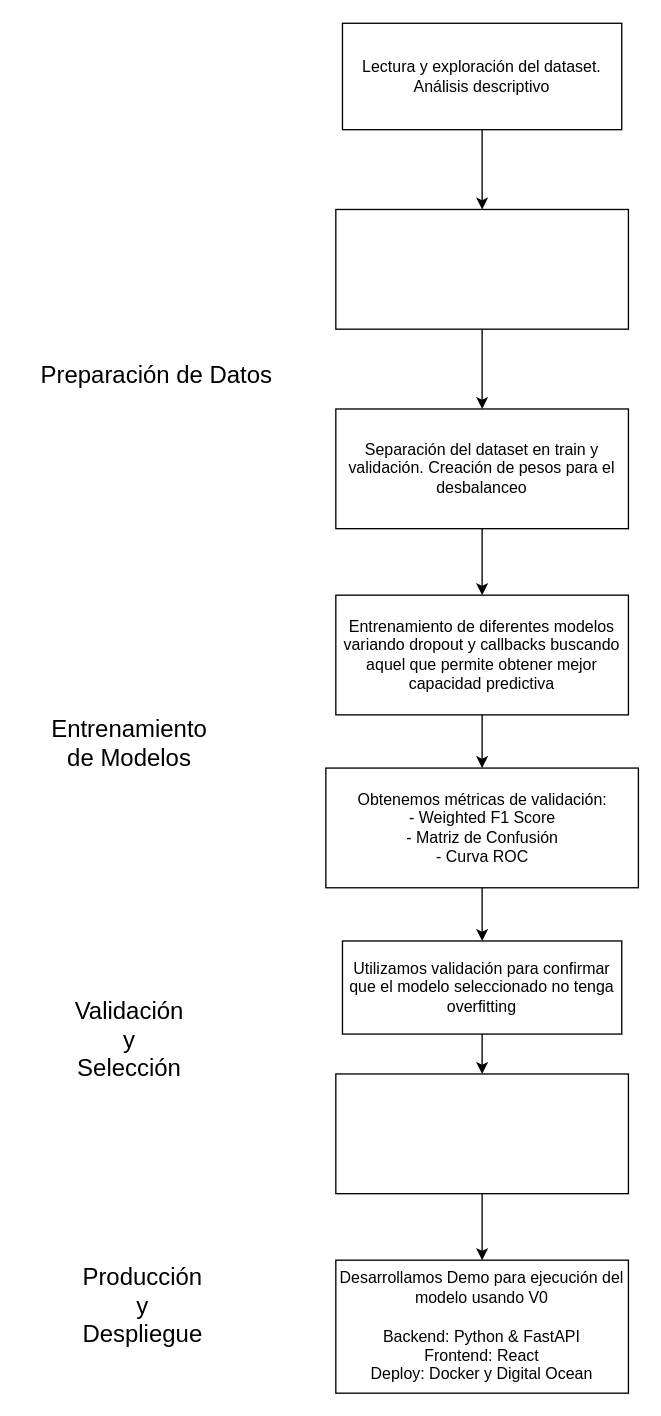
This 661x1416 diagram has some shape labels left out. The shapes that lost their labels are listed below. From the top down, each one's centre as x and y in pixels, then its label:
At point (481, 268): "Pre Procesamiento: - Limpieza de texto -Tokenización -Embeddings (BERT)".
At point (481, 1133): "Guardamos el modelo seleccionado para su puesta en producción".
